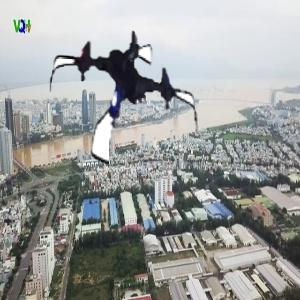drone: (45, 21, 204, 180)
